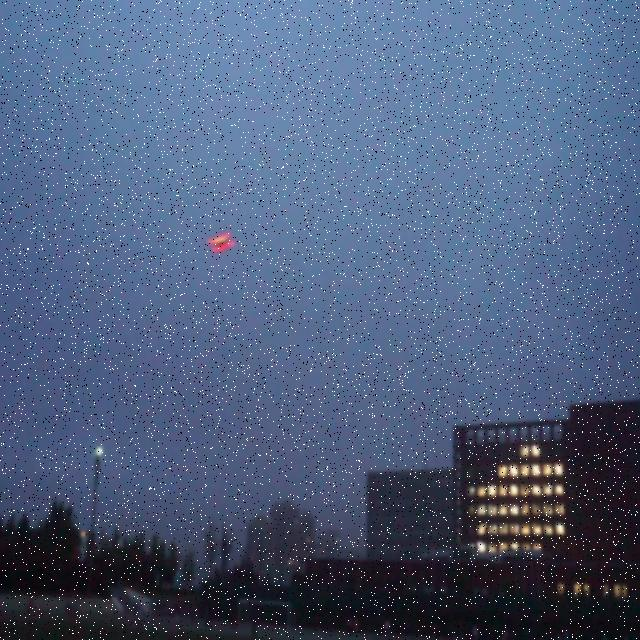UAV: (207, 232, 235, 252)
